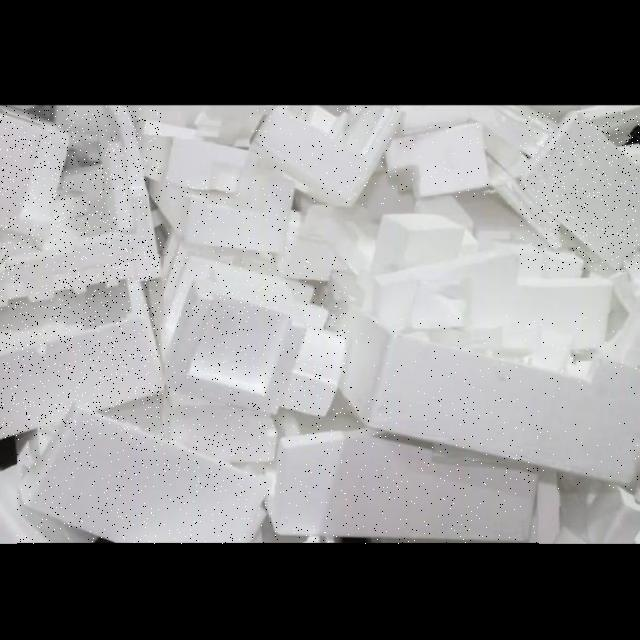styrofoam: (341, 313, 639, 490), (267, 398, 539, 544), (18, 402, 270, 544), (0, 107, 161, 309), (164, 256, 346, 418), (0, 282, 163, 440), (520, 112, 639, 271), (250, 106, 405, 207), (150, 177, 295, 254), (386, 122, 490, 198)
